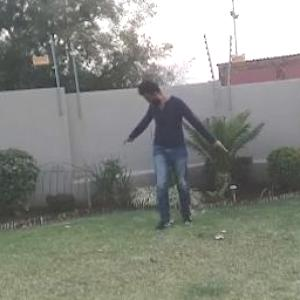land: (99, 65, 222, 242)
